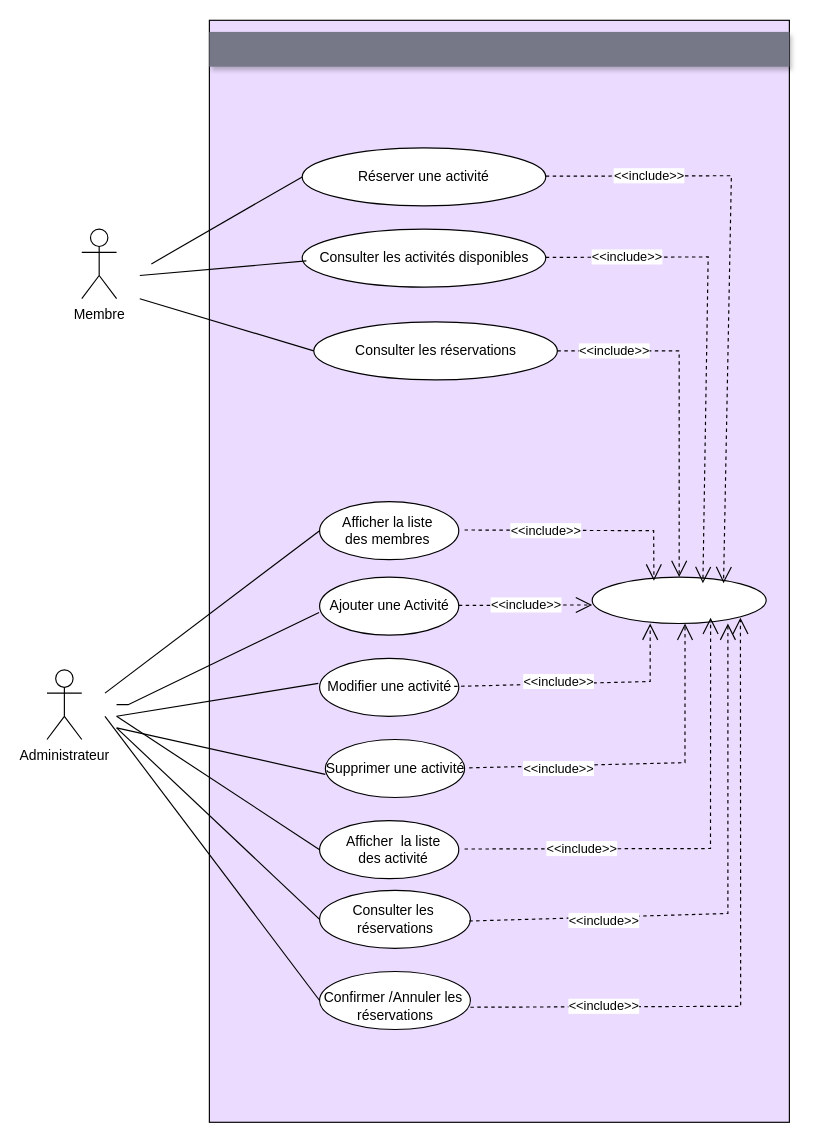
The diagram is 817 pixels wide and 1143 high, and some of its shapes have lost their labels. Here are the shapes that lost their labels. From the top down, the centre of each, then its label:
[500,50]: Système de gestion de d'une Salle du Sport
[678,600]: S'authentifier
